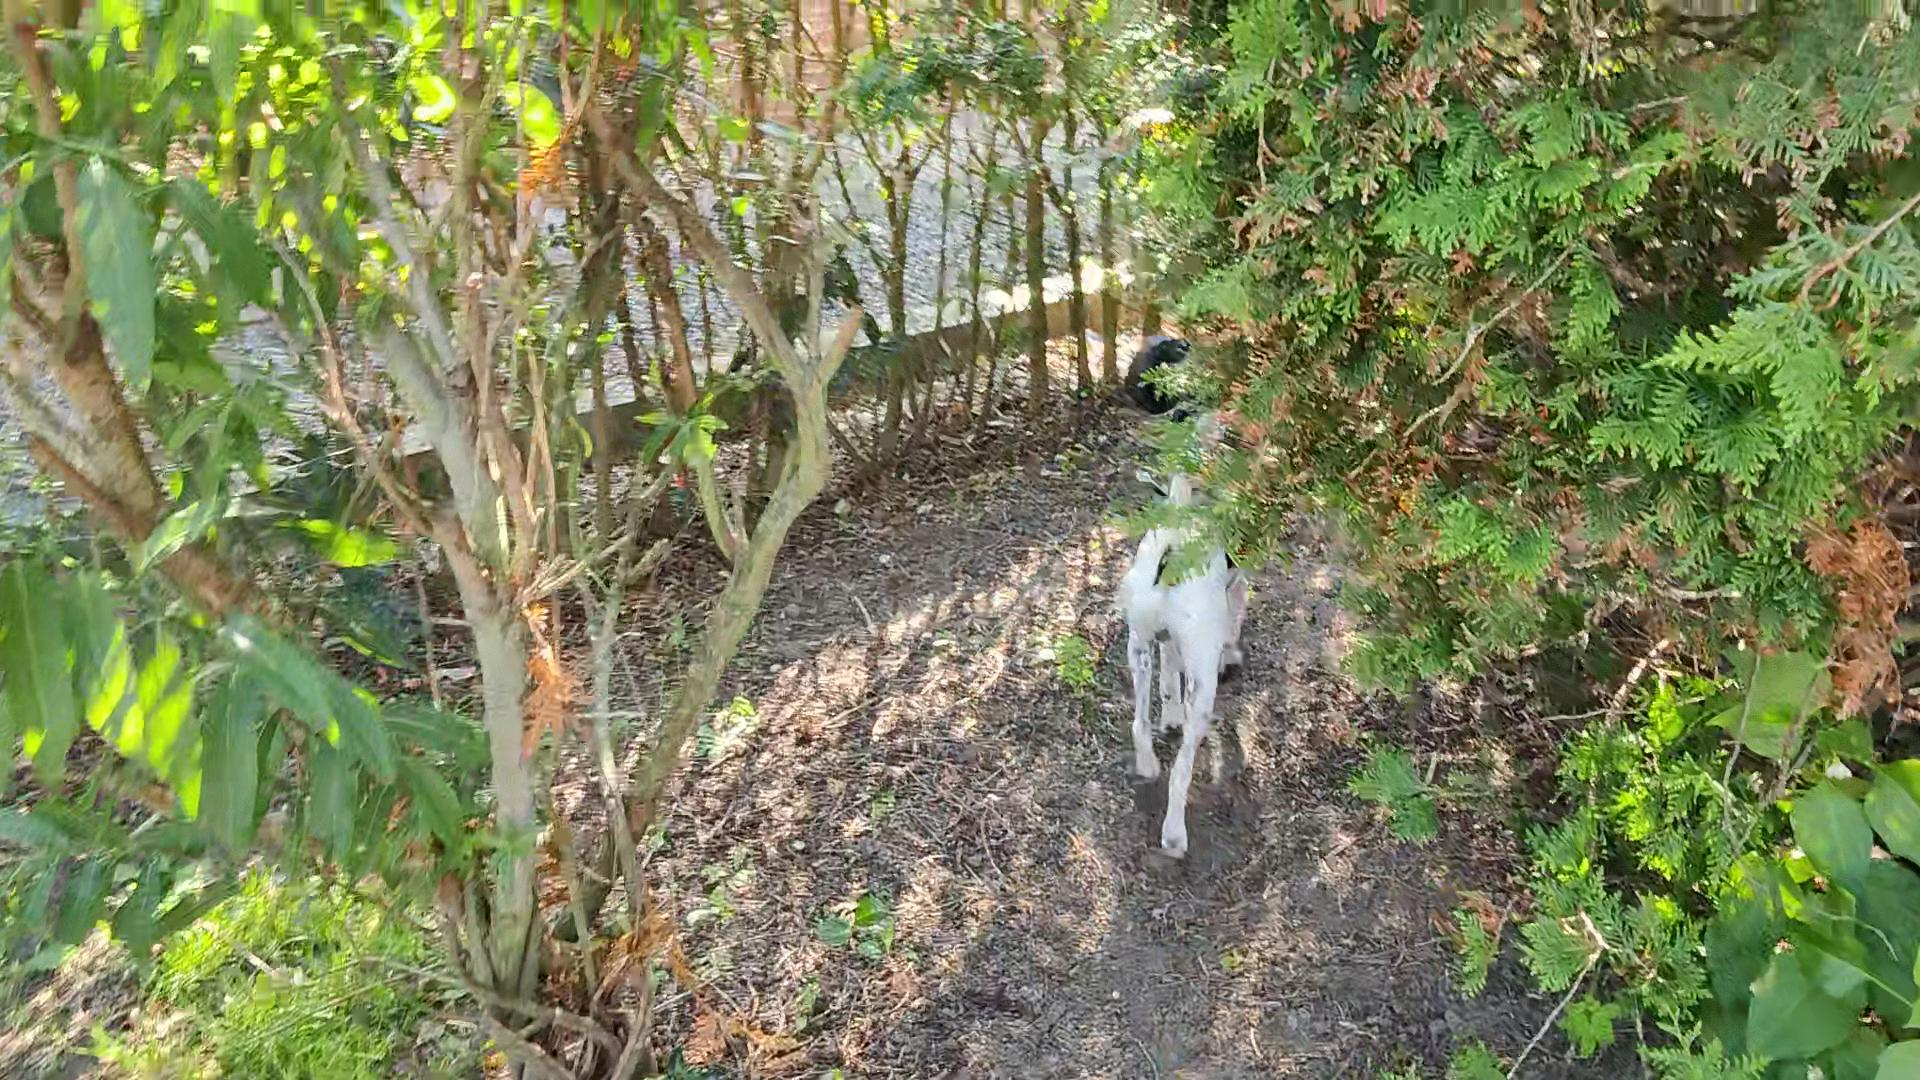Dog: (1085, 413, 1261, 865)
